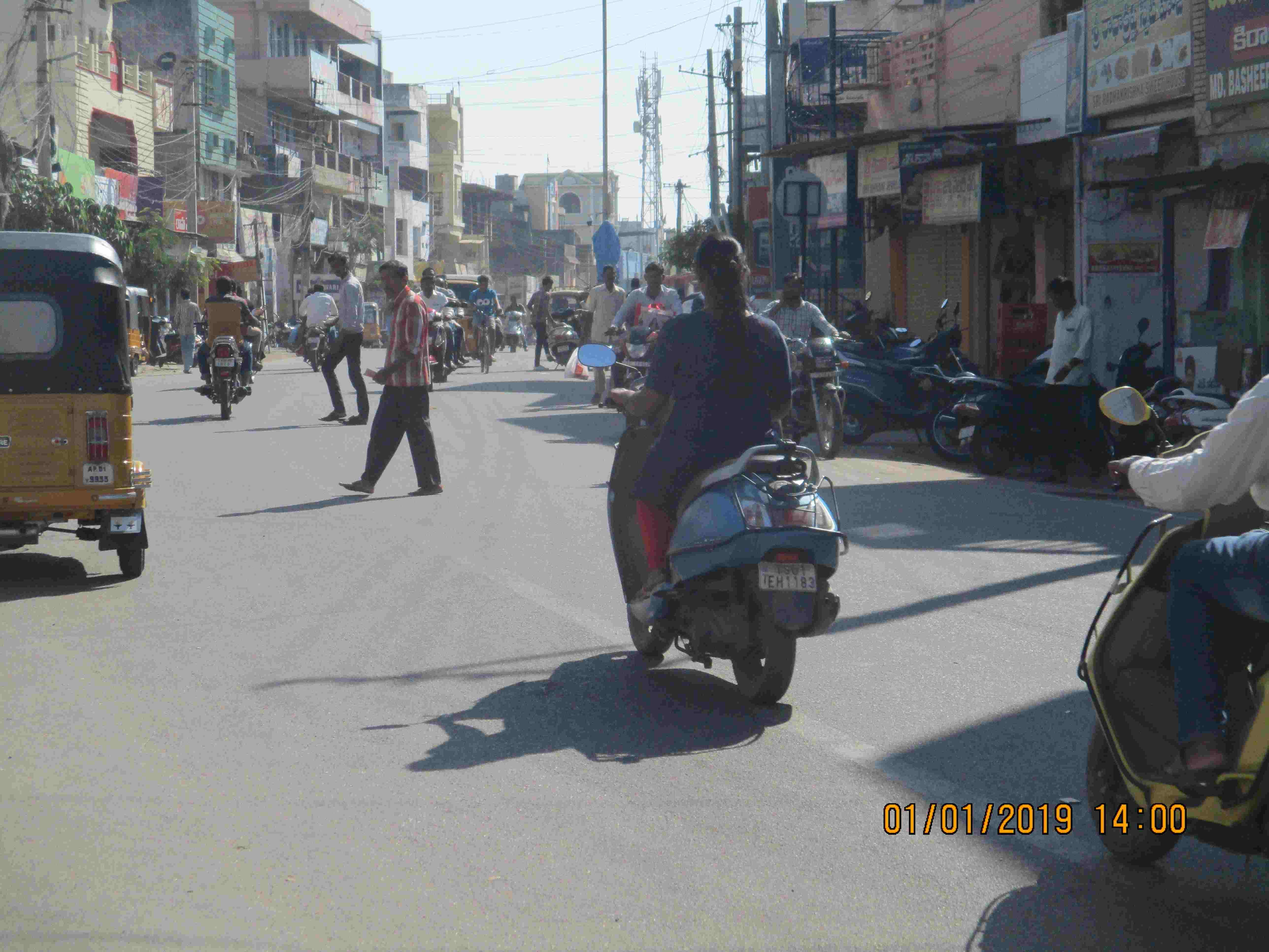plate: (753, 556, 826, 597), (210, 354, 240, 372)
